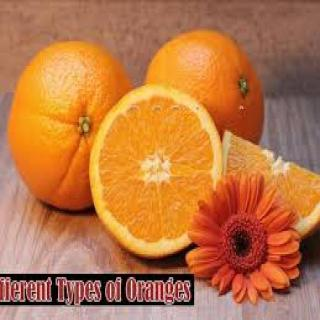orange: (8, 27, 146, 222), (87, 74, 219, 274), (135, 18, 280, 172)
